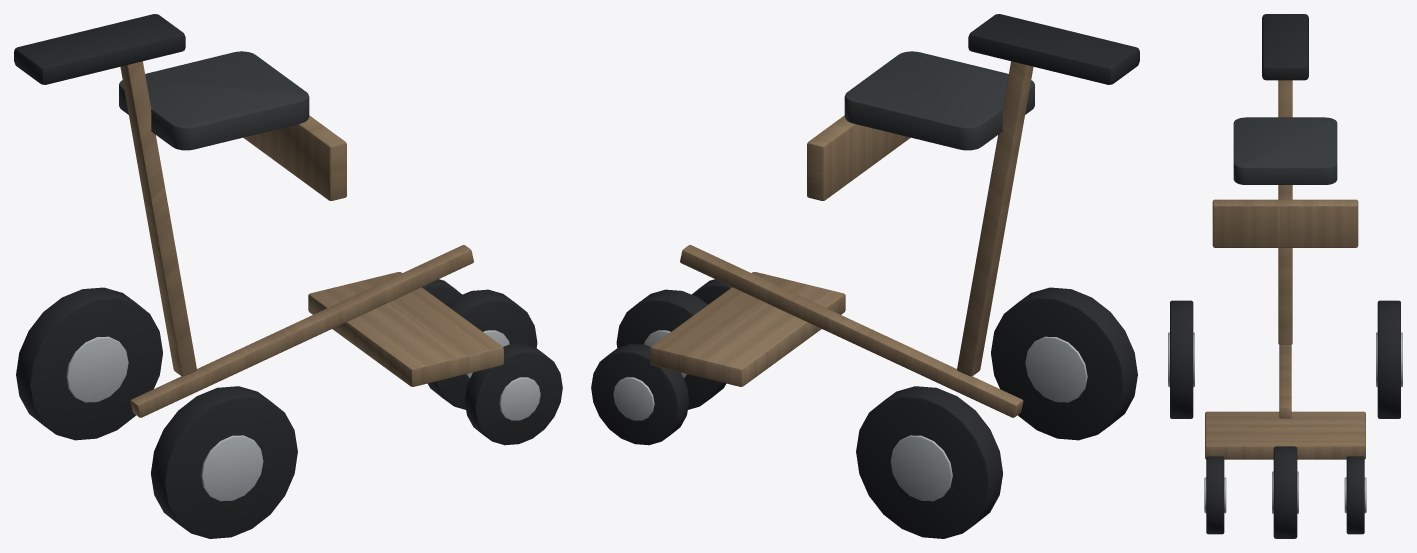
File: push_cart_premium.glb
The picture shows the model from 3 angles, left to right: view 1: azimuth 30°, elevation 25°; view 2: azimuth 150°, elevation 25°; view 3: azimuth 270°, elevation 25°; orthographic projection. The views are drawn at different scales.
Visible parts, largest first — view 1: PushCart_Rear_L_Tire, PushCart_Rear_R_Tire, PushCart_ScorecardTray, PushCart_BagRestLower, PushCart_LowerFrame, PushCart_HandleStem, PushCart_Handle, PushCart_Front_L_Tire, PushCart_BagRestUpper, PushCart_Front_Tire, PushCart_Rear_R_Hub, PushCart_Rear_L_Hub (+1 smaller); view 2: PushCart_Rear_R_Tire, PushCart_Rear_L_Tire, PushCart_ScorecardTray, PushCart_BagRestLower, PushCart_LowerFrame, PushCart_HandleStem, PushCart_Handle, PushCart_Front_R_Tire, PushCart_BagRestUpper, PushCart_Front_Tire, PushCart_Rear_L_Hub, PushCart_Rear_R_Hub (+1 smaller); view 3: PushCart_BagRestLower, PushCart_BagRestUpper, PushCart_ScorecardTray, PushCart_Handle, PushCart_Rear_L_Tire, PushCart_Rear_R_Tire, PushCart_Front_Tire, PushCart_HandleStem, PushCart_Front_L_Tire, PushCart_Front_R_Tire, PushCart_LowerFrame.
Boxes of the visible parts, box(x1,y1,x2,y2) form: PushCart_Rear_L_Tire: box(151, 386, 297, 538); PushCart_Rear_R_Tire: box(16, 287, 162, 440); PushCart_ScorecardTray: box(119, 51, 309, 150); PushCart_BagRestLower: box(308, 272, 503, 386); PushCart_LowerFrame: box(130, 245, 473, 417); PushCart_HandleStem: box(120, 61, 196, 376); PushCart_Handle: box(14, 14, 185, 84); PushCart_Front_L_Tire: box(464, 343, 562, 445); PushCart_BagRestUpper: box(243, 115, 346, 200); PushCart_Front_Tire: box(427, 289, 537, 409); PushCart_Rear_R_Hub: box(66, 336, 128, 402); PushCart_Rear_L_Hub: box(201, 435, 263, 501); PushCart_Rear_R_Tire: box(856, 386, 1002, 538); PushCart_Rear_L_Tire: box(991, 287, 1137, 440); PushCart_ScorecardTray: box(844, 51, 1034, 150); PushCart_BagRestLower: box(650, 272, 845, 386); PushCart_LowerFrame: box(680, 245, 1023, 417); PushCart_HandleStem: box(957, 61, 1033, 376); PushCart_Handle: box(968, 14, 1139, 84); PushCart_Front_R_Tire: box(591, 343, 689, 445); PushCart_BagRestUpper: box(807, 115, 910, 200); PushCart_Front_Tire: box(616, 289, 726, 409); PushCart_Rear_L_Hub: box(1025, 336, 1087, 402); PushCart_Rear_R_Hub: box(890, 435, 952, 501); PushCart_BagRestLower: box(1205, 411, 1365, 459); PushCart_BagRestUpper: box(1212, 199, 1358, 247); PushCart_ScorecardTray: box(1233, 117, 1337, 184); PushCart_Handle: box(1262, 14, 1308, 80); PushCart_Rear_L_Tire: box(1170, 300, 1193, 418); PushCart_Rear_R_Tire: box(1377, 300, 1400, 418); PushCart_Front_Tire: box(1273, 446, 1297, 538); PushCart_HandleStem: box(1278, 80, 1292, 344); PushCart_Front_L_Tire: box(1206, 456, 1224, 534); PushCart_Front_R_Tire: box(1346, 456, 1364, 534); PushCart_LowerFrame: box(1279, 345, 1291, 418).
Size of what is drawn, in the model's own units: 1.24 by 1.08 by 0.6508.
Materials: 4 (1 with a texture image).
